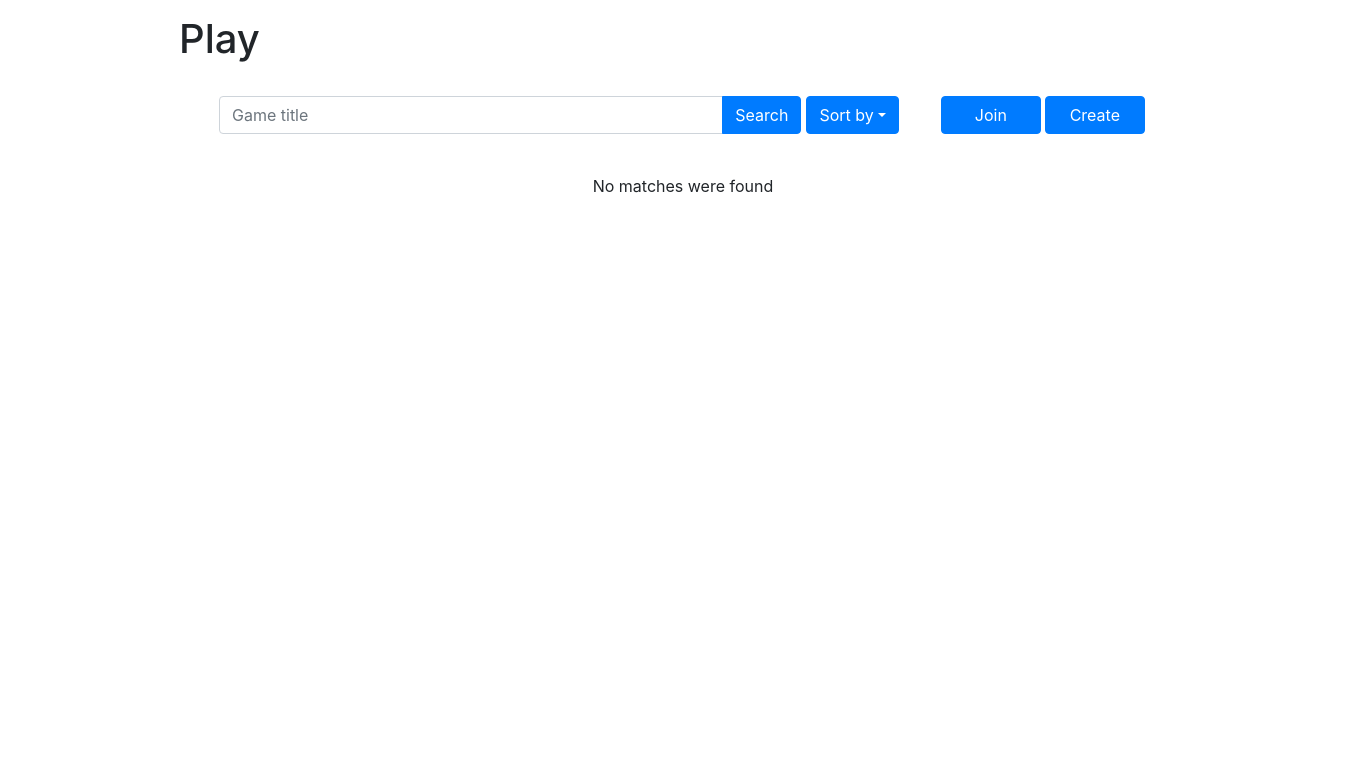
Test: Should display modal
Click the button "Join". click: (991, 115)
box: x1=941 y1=96 x2=1041 y2=134
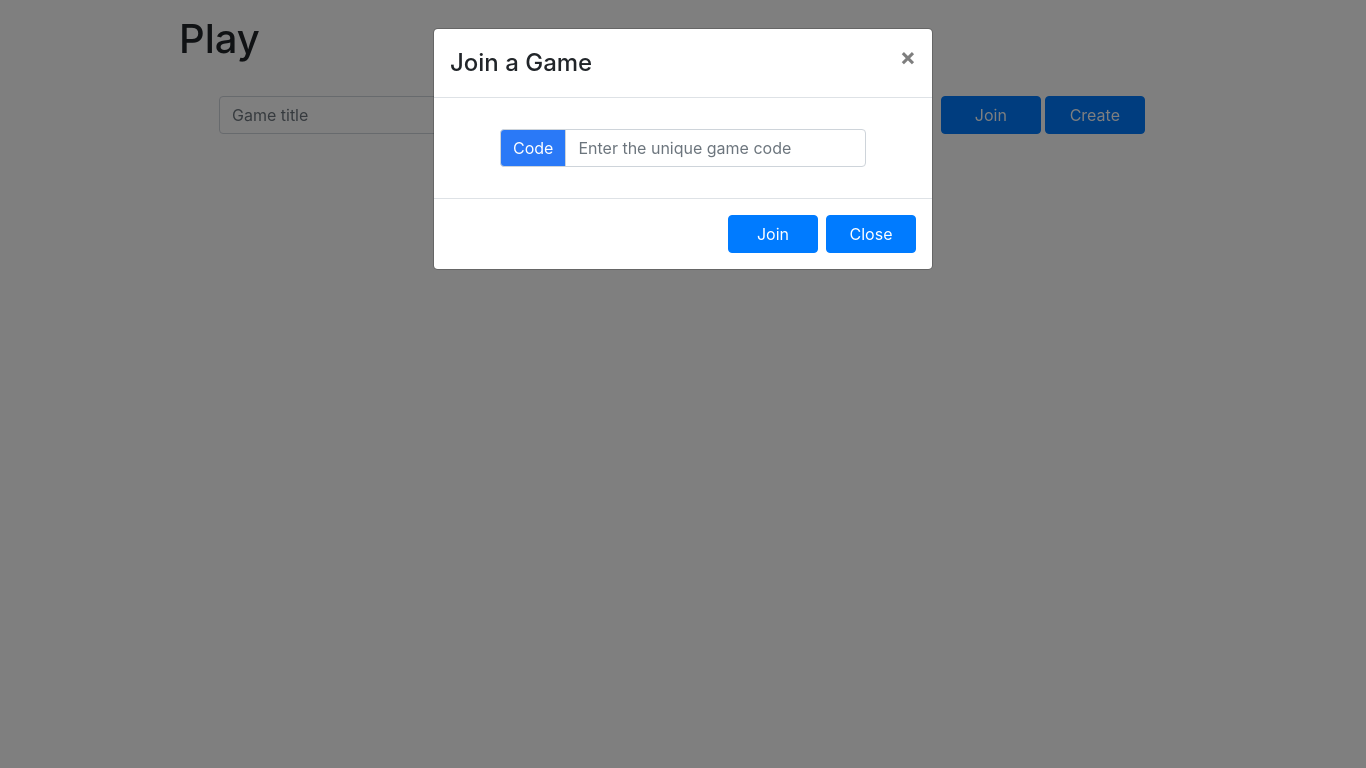
Expected: the text "Code" is shown, x1=500 y1=129 x2=566 y2=167
